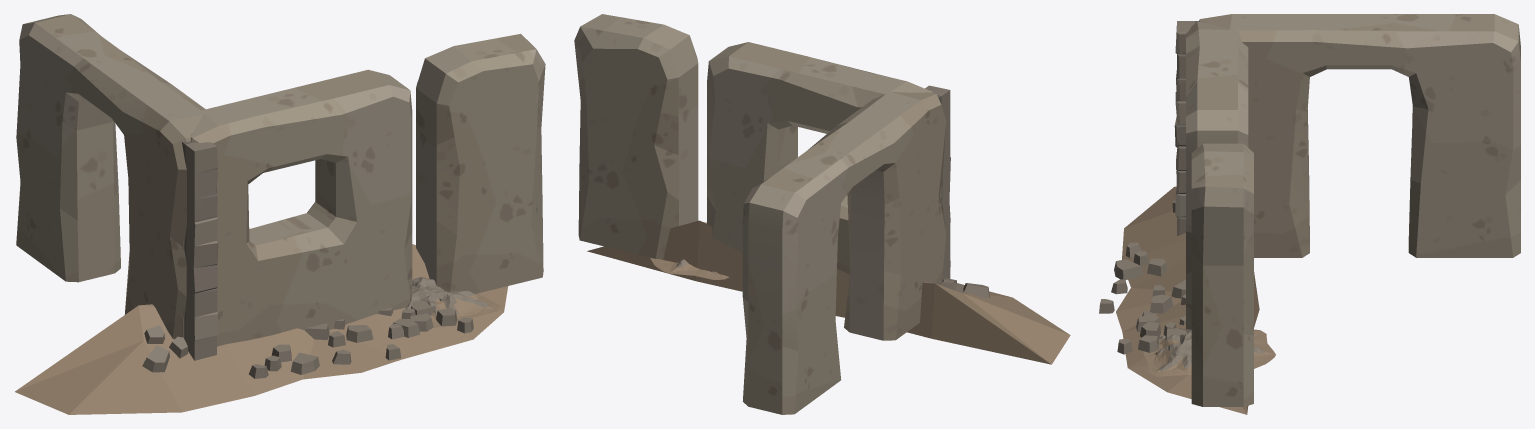
Rendered from Env_1.fbx.
3 renders of one model, left to right at view 1: azimuth 30°, elevation 25°; view 2: azimuth 150°, elevation 25°; view 3: azimuth 270°, elevation 25°, orthographic. The views are drawn at different scales.
Visible parts, largest first — view 1: SM_Env_Ruin_04, SM_Env_Ruin_02, SM_Env_Ruin_03, SM_Env_SandEdge_03, SM_Env_Sidewalk_Straight_01, SM_Env_Pebbles_04, SM_Env_Mountain_07, SM_Env_Pebbles_03, SM_Env_Pebbles_01; view 2: SM_Env_Ruin_02, SM_Env_Ruin_03, SM_Env_Ruin_04, SM_Env_SandEdge_03, SM_Env_Sidewalk_Straight_01, SM_Env_Mountain_07, SM_Env_Pebbles_01; view 3: SM_Env_Ruin_02, SM_Env_Ruin_03, SM_Env_Ruin_04, SM_Env_SandEdge_03, SM_Env_Pebbles_04, SM_Env_Mountain_07, SM_Env_Sidewalk_Straight_01, SM_Env_Pebbles_03.
Part boxes in pixels (x1=…): SM_Env_Ruin_04: x1=182, y1=69, x2=412, y2=346; SM_Env_Ruin_02: x1=16, y1=14, x2=205, y2=339; SM_Env_Ruin_03: x1=416, y1=34, x2=545, y2=293; SM_Env_SandEdge_03: x1=15, y1=244, x2=508, y2=414; SM_Env_Sidewalk_Straight_01: x1=182, y1=141, x2=218, y2=360; SM_Env_Pebbles_04: x1=249, y1=308, x2=420, y2=378; SM_Env_Mountain_07: x1=401, y1=276, x2=500, y2=327; SM_Env_Pebbles_03: x1=378, y1=298, x2=473, y2=339; SM_Env_Pebbles_01: x1=142, y1=325, x2=187, y2=372; SM_Env_Ruin_02: x1=742, y1=92, x2=946, y2=414; SM_Env_Ruin_03: x1=574, y1=14, x2=698, y2=259; SM_Env_Ruin_04: x1=707, y1=42, x2=941, y2=274; SM_Env_SandEdge_03: x1=587, y1=220, x2=1070, y2=364; SM_Env_Sidewalk_Straight_01: x1=925, y1=85, x2=950, y2=278; SM_Env_Mountain_07: x1=650, y1=222, x2=729, y2=279; SM_Env_Pebbles_01: x1=941, y1=278, x2=989, y2=298; SM_Env_Ruin_02: x1=1199, y1=14, x2=1520, y2=257; SM_Env_Ruin_03: x1=1191, y1=143, x2=1253, y2=406; SM_Env_Ruin_04: x1=1186, y1=21, x2=1248, y2=329; SM_Env_SandEdge_03: x1=1116, y1=186, x2=1259, y2=414; SM_Env_Pebbles_04: x1=1099, y1=242, x2=1185, y2=335; SM_Env_Mountain_07: x1=1143, y1=328, x2=1275, y2=376; SM_Env_Sidewalk_Straight_01: x1=1174, y1=21, x2=1198, y2=235; SM_Env_Pebbles_03: x1=1117, y1=310, x2=1187, y2=354.
Bounding box in the file's own units: 835 × 375 × 612.
